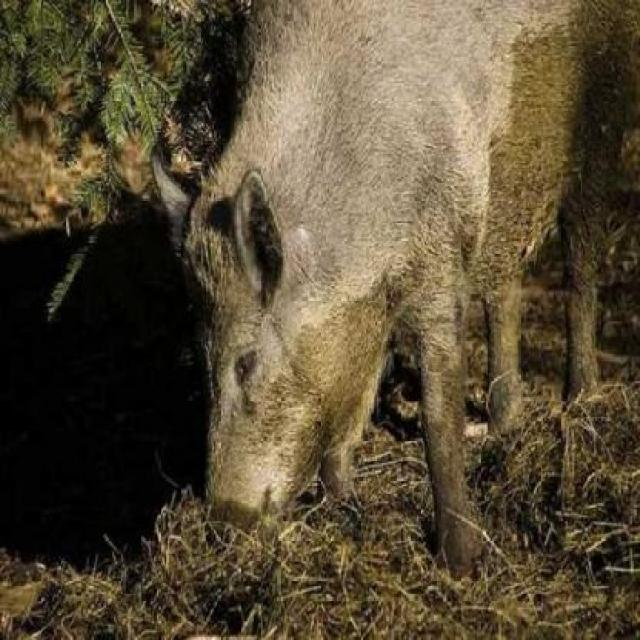pig: (104, 0, 638, 638)
